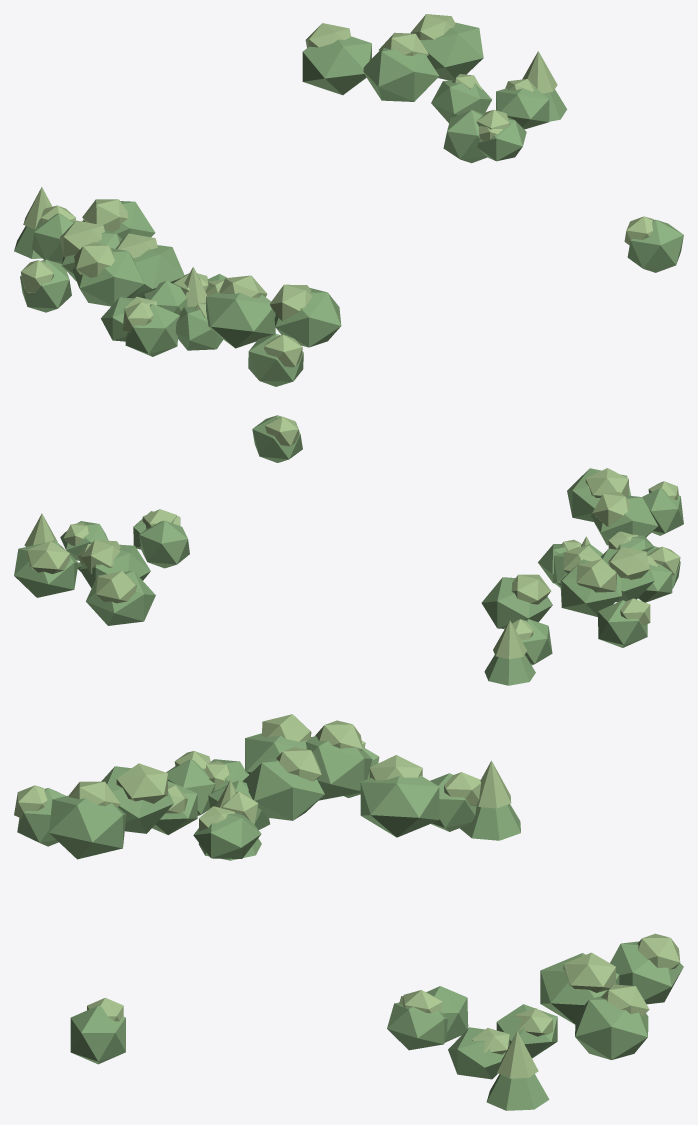
The model's file is fern_hollow_wind_canopies.fbx.
3 renders of one model, top to bottom at view 1: azimuth 30°, elevation 25°; view 2: azimuth 150°, elevation 25°; view 3: azimuth 270°, elevation 25°, orthographic. The views are drawn at different scales.
Parts seen in each view (by area): view 1: chunk_fern_hollow__tree_canopy_26, chunk_fern_hollow__tree_canopy_34, chunk_fern_hollow__tree_canopy_35, chunk_fern_hollow__tree_canopy_46, chunk_fern_hollow__tree_canopy_32, chunk_fern_hollow__tree_canopy_06, chunk_fern_hollow__tree_canopy_43, chunk_fern_hollow__tree_canopy_09, chunk_fern_hollow__tree_canopy_47, chunk_fern_hollow__tree_canopy_16, chunk_fern_hollow__tree_canopy_42, chunk_fern_hollow__tree_canopy_37 (+23 smaller); view 2: chunk_fern_hollow__tree_canopy_34, chunk_fern_hollow__tree_canopy_21, chunk_fern_hollow__tree_canopy_37, chunk_fern_hollow__tree_canopy_46, chunk_fern_hollow__tree_canopy_10, chunk_fern_hollow__tree_canopy_02, chunk_fern_hollow__tree_canopy_26, chunk_fern_hollow__tree_canopy_22, chunk_fern_hollow__tree_canopy_35, chunk_fern_hollow__tree_canopy_12, chunk_fern_hollow__tree_canopy_43, chunk_fern_hollow__tree_canopy_07 (+20 smaller); view 3: chunk_fern_hollow__tree_canopy_21, chunk_fern_hollow__tree_canopy_32, chunk_fern_hollow__tree_canopy_46, chunk_fern_hollow__tree_canopy_16, chunk_fern_hollow__tree_canopy_10, chunk_fern_hollow__tree_canopy_43, chunk_fern_hollow__tree_canopy_34, chunk_fern_hollow__tree_canopy_40, chunk_fern_hollow__tree_canopy_30, chunk_fern_hollow__tree_canopy_35, chunk_fern_hollow__tree_canopy_26, chunk_fern_hollow__tree_canopy_47 (+27 smaller).
Part boxes in pixels (bbox=[...]): chunk_fern_hollow__tree_canopy_26: bbox=[206, 292, 275, 348]; chunk_fern_hollow__tree_canopy_34: bbox=[302, 36, 371, 95]; chunk_fern_hollow__tree_canopy_35: bbox=[363, 48, 439, 101]; chunk_fern_hollow__tree_canopy_46: bbox=[420, 22, 483, 80]; chunk_fern_hollow__tree_canopy_32: bbox=[274, 288, 341, 347]; chunk_fern_hollow__tree_canopy_06: bbox=[72, 248, 144, 306]; chunk_fern_hollow__tree_canopy_43: bbox=[627, 219, 683, 272]; chunk_fern_hollow__tree_canopy_09: bbox=[125, 304, 179, 356]; chunk_fern_hollow__tree_canopy_47: bbox=[496, 86, 549, 129]; chunk_fern_hollow__tree_canopy_16: bbox=[131, 245, 184, 298]; chunk_fern_hollow__tree_canopy_42: bbox=[431, 80, 491, 122]; chunk_fern_hollow__tree_canopy_37: bbox=[443, 110, 486, 163]; chunk_fern_hollow__tree_canopy_34: bbox=[86, 571, 155, 625]; chunk_fern_hollow__tree_canopy_21: bbox=[481, 577, 552, 628]; chunk_fern_hollow__tree_canopy_37: bbox=[139, 520, 189, 568]; chunk_fern_hollow__tree_canopy_46: bbox=[14, 540, 78, 597]; chunk_fern_hollow__tree_canopy_10: bbox=[560, 559, 621, 616]; chunk_fern_hollow__tree_canopy_02: bbox=[598, 600, 647, 647]; chunk_fern_hollow__tree_canopy_26: bbox=[591, 495, 657, 545]; chunk_fern_hollow__tree_canopy_22: bbox=[642, 488, 683, 535]; chunk_fern_hollow__tree_canopy_35: bbox=[79, 544, 150, 587]; chunk_fern_hollow__tree_canopy_12: bbox=[484, 654, 535, 685]; chunk_fern_hollow__tree_canopy_43: bbox=[252, 415, 302, 462]; chunk_fern_hollow__tree_canopy_07: bbox=[576, 559, 617, 592]; chunk_fern_hollow__tree_canopy_21: bbox=[360, 775, 439, 837]; chunk_fern_hollow__tree_canopy_32: bbox=[49, 795, 126, 859]; chunk_fern_hollow__tree_canopy_46: bbox=[575, 996, 648, 1059]; chunk_fern_hollow__tree_canopy_16: bbox=[243, 757, 324, 820]; chunk_fern_hollow__tree_canopy_10: bbox=[305, 736, 372, 800]; chunk_fern_hollow__tree_canopy_43: bbox=[70, 1005, 125, 1064]; chunk_fern_hollow__tree_canopy_34: bbox=[610, 941, 683, 1004]; chunk_fern_hollow__tree_canopy_40: bbox=[387, 1002, 447, 1050]; chunk_fern_hollow__tree_canopy_30: bbox=[193, 813, 261, 858]; chunk_fern_hollow__tree_canopy_35: bbox=[540, 953, 619, 1024]; chunk_fern_hollow__tree_canopy_26: bbox=[101, 766, 173, 833]; chunk_fern_hollow__tree_canopy_47: bbox=[448, 1027, 505, 1079].
Bounding box in the file's own units: 218 × 28.81 × 185.
